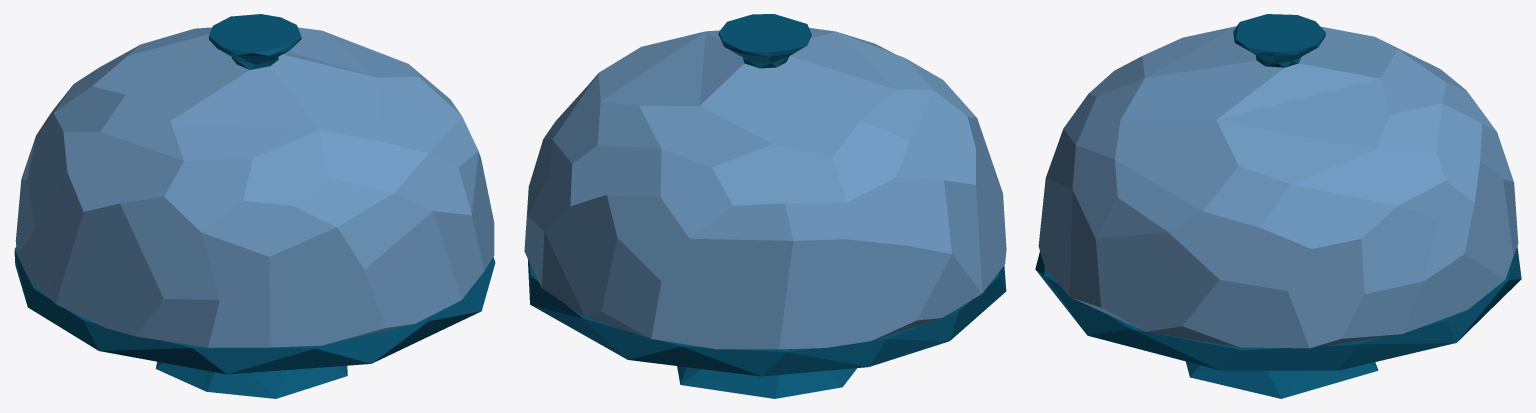
The model's file is CheeseDome.fbx.
3 views of the same model, side by side, from view 1: azimuth 30°, elevation 25°; view 2: azimuth 150°, elevation 25°; view 3: azimuth 270°, elevation 25° (orthographic).
Visible parts, largest first — view 1: CheeseDomeLidLowPoly, CheeseDomeLowPoly; view 2: CheeseDomeLidLowPoly, CheeseDomeLowPoly; view 3: CheeseDomeLidLowPoly, CheeseDomeLowPoly.
Part boxes in pixels (x1,y1,x2,y2): CheeseDomeLidLowPoly: (15, 14, 494, 347); CheeseDomeLowPoly: (14, 246, 495, 398); CheeseDomeLidLowPoly: (524, 14, 1006, 349); CheeseDomeLowPoly: (528, 259, 1006, 398); CheeseDomeLidLowPoly: (1038, 14, 1518, 348); CheeseDomeLowPoly: (1035, 246, 1521, 398).
Bounding box in the file's own units: 22.22 × 16.54 × 22.63.
